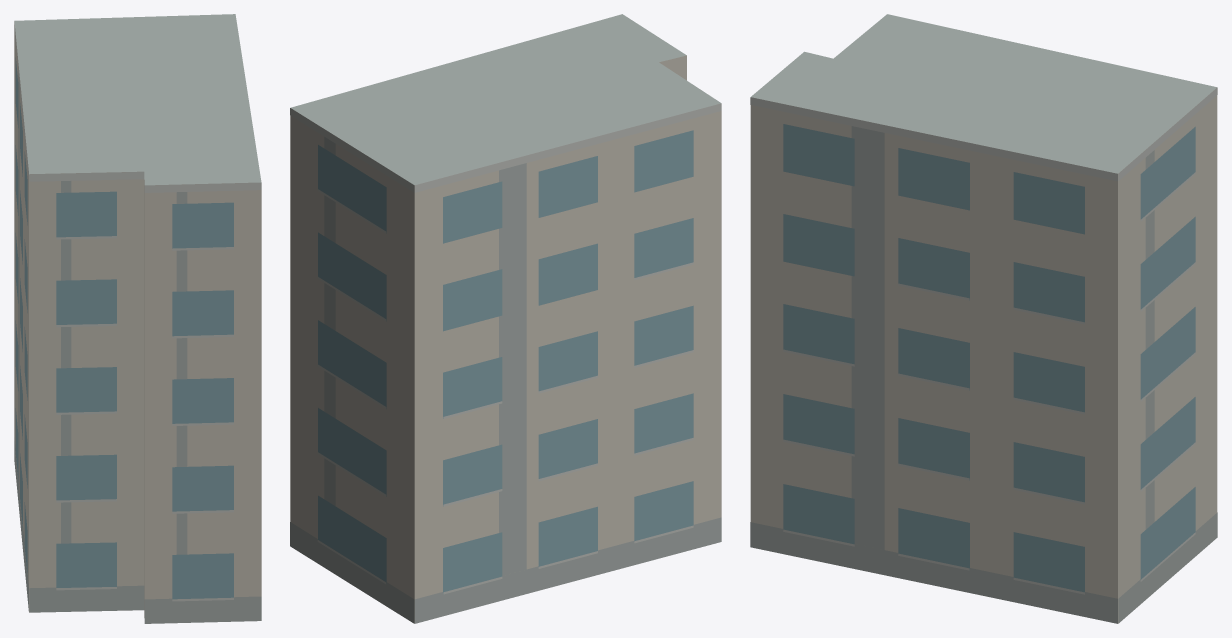
File: survey-upis-32729593.glb
The picture shows the model from 3 angles, left to right: view 1: azimuth 30°, elevation 25°; view 2: azimuth 150°, elevation 25°; view 3: azimuth 270°, elevation 25°; orthographic projection. The views are drawn at different scales.
Parts seen in each view (by area): view 1: survey-upis-32729593.tmp; view 2: survey-upis-32729593.tmp; view 3: survey-upis-32729593.tmp.
Part boxes in pixels (x1,y1,x2,y2): survey-upis-32729593.tmp: (14, 14, 261, 623); survey-upis-32729593.tmp: (290, 14, 721, 623); survey-upis-32729593.tmp: (750, 14, 1217, 623).
Size of the model in its own units: 10.74 by 14.1 by 13.27.
